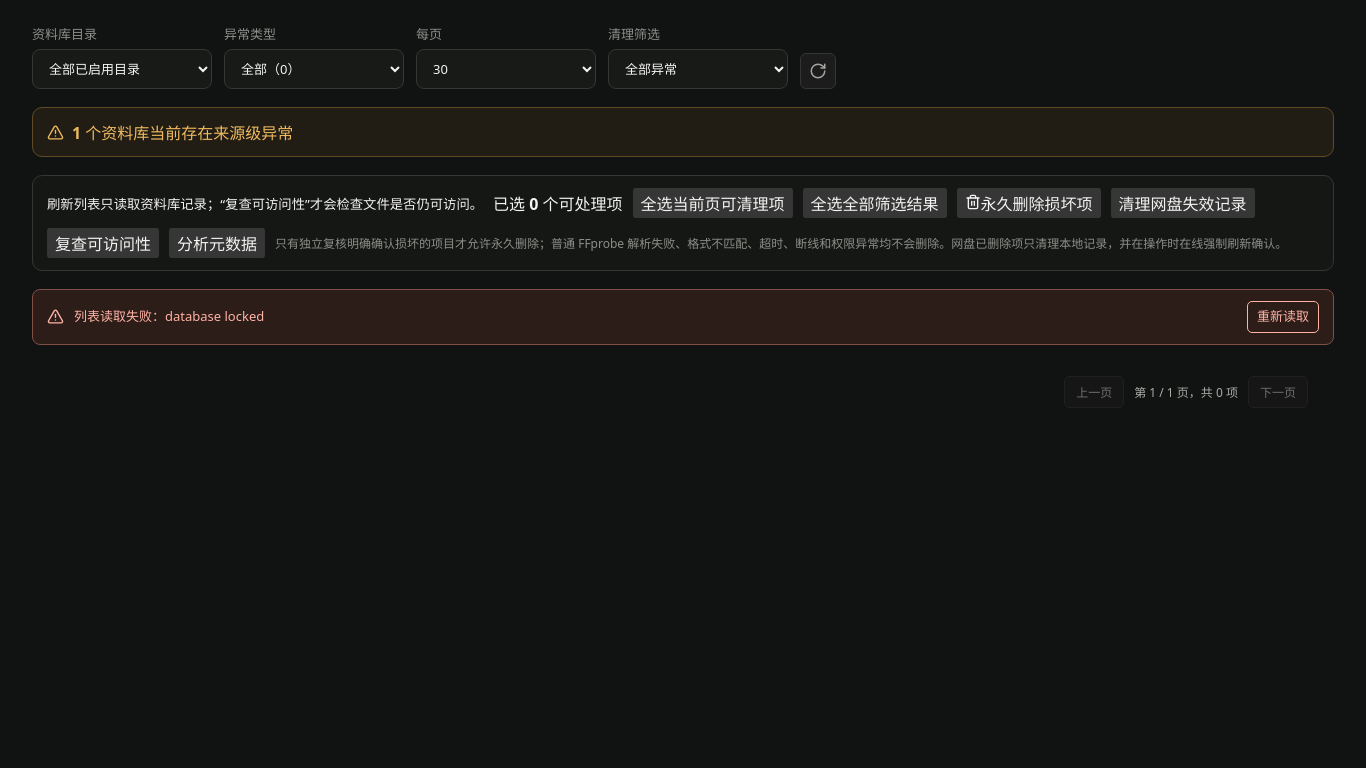
Test: ScanFailuresPage › does not present a failed query as an empty result and retry only reads the list
This screenshot has width=1366, height=768.
Check: the message shows "database locked", box [74, 307, 264, 325]
Click the button "重新读取" at [1283, 317], box [1247, 301, 1319, 332]
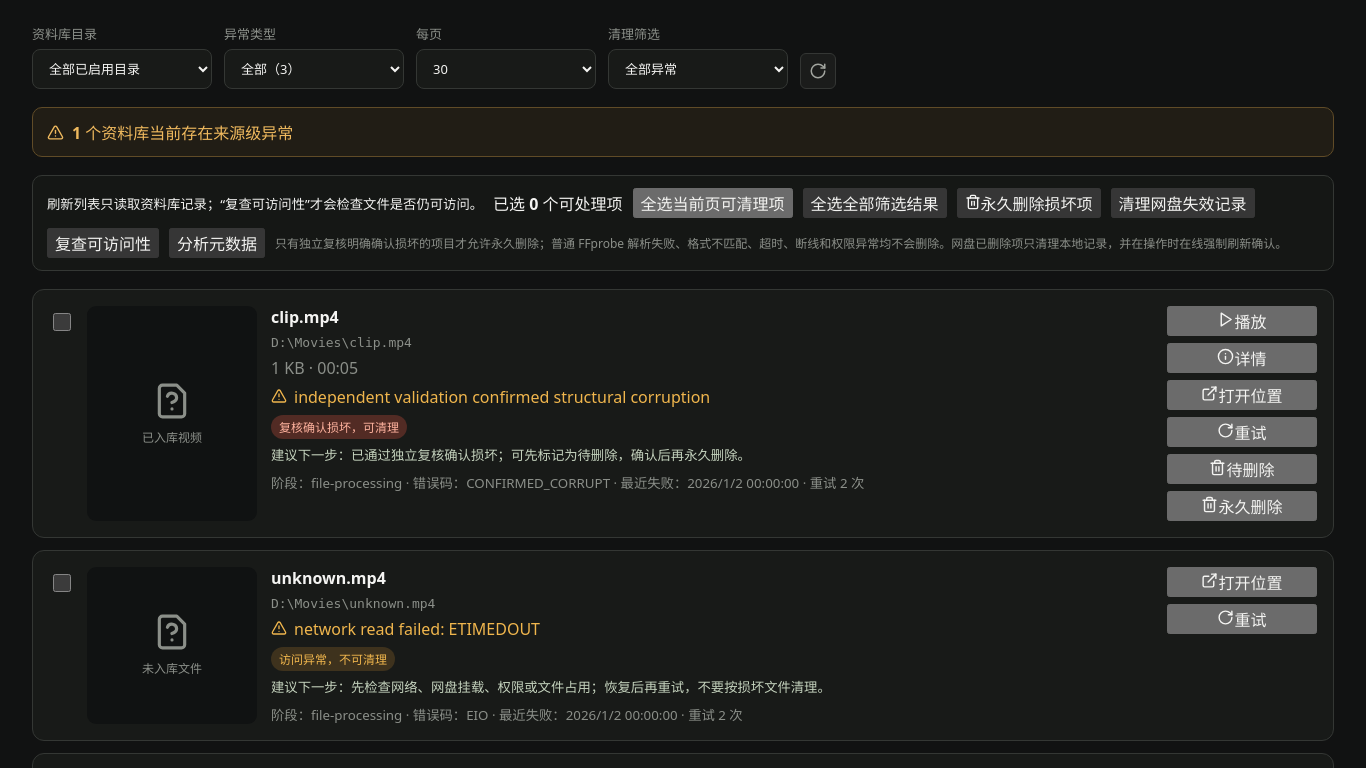
Check: the text "clip.mp4" is shown, box [271, 306, 339, 328]
